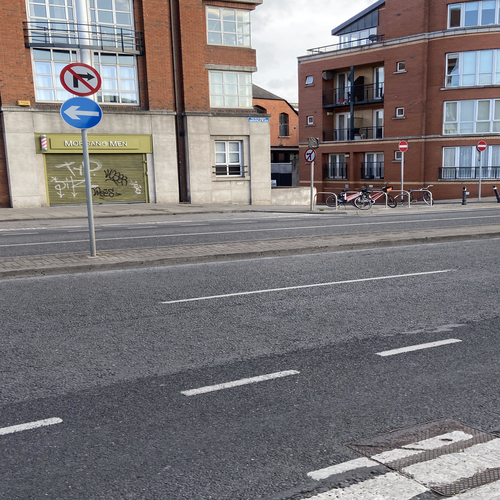Left Turn: (61, 97, 103, 132)
No Turn: (58, 61, 102, 96), (304, 147, 316, 168)
No entry: (477, 140, 487, 153), (399, 140, 408, 153)
